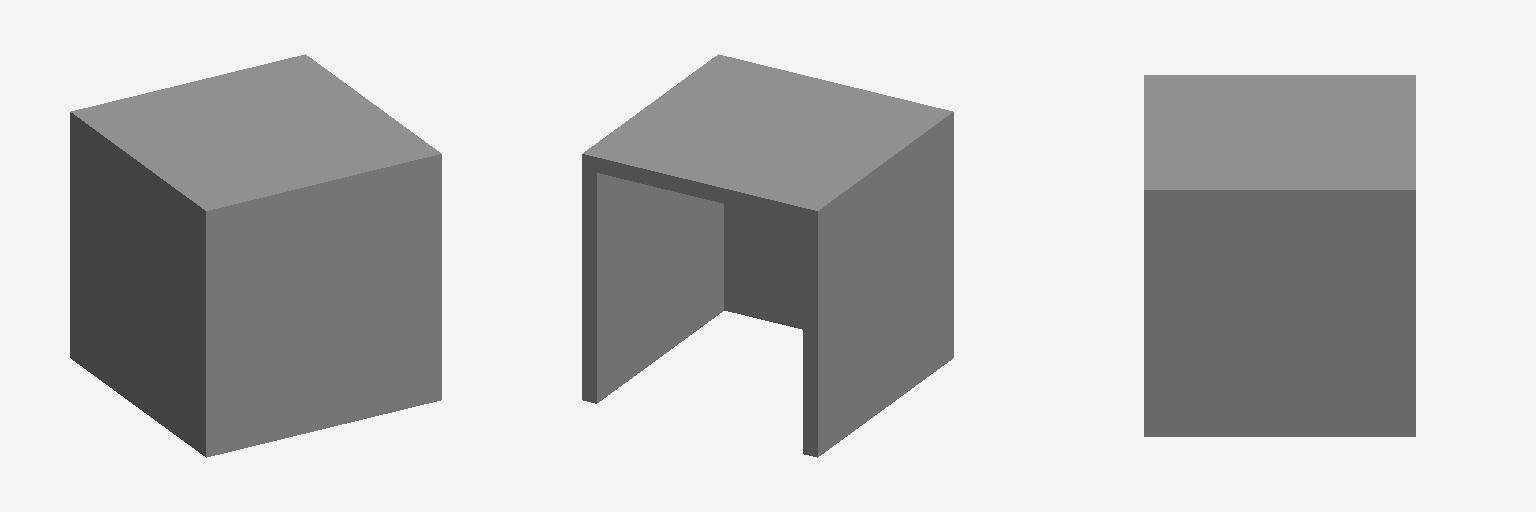
Rendered from locker_large_top.obj.
3 renders of one model, left to right at view 1: azimuth 30°, elevation 25°; view 2: azimuth 150°, elevation 25°; view 3: azimuth 270°, elevation 25°, orthographic.
Parts seen in each view (by area): view 1: locker_large_top; view 2: locker_large_top; view 3: locker_large_top.
Part boxes in pixels (left/top/right/bottom): locker_large_top: left=70, top=54, right=441, bottom=457; locker_large_top: left=582, top=54, right=953, bottom=457; locker_large_top: left=1144, top=75, right=1415, bottom=436.
Size of the model in its own units: 1 by 1 by 1.